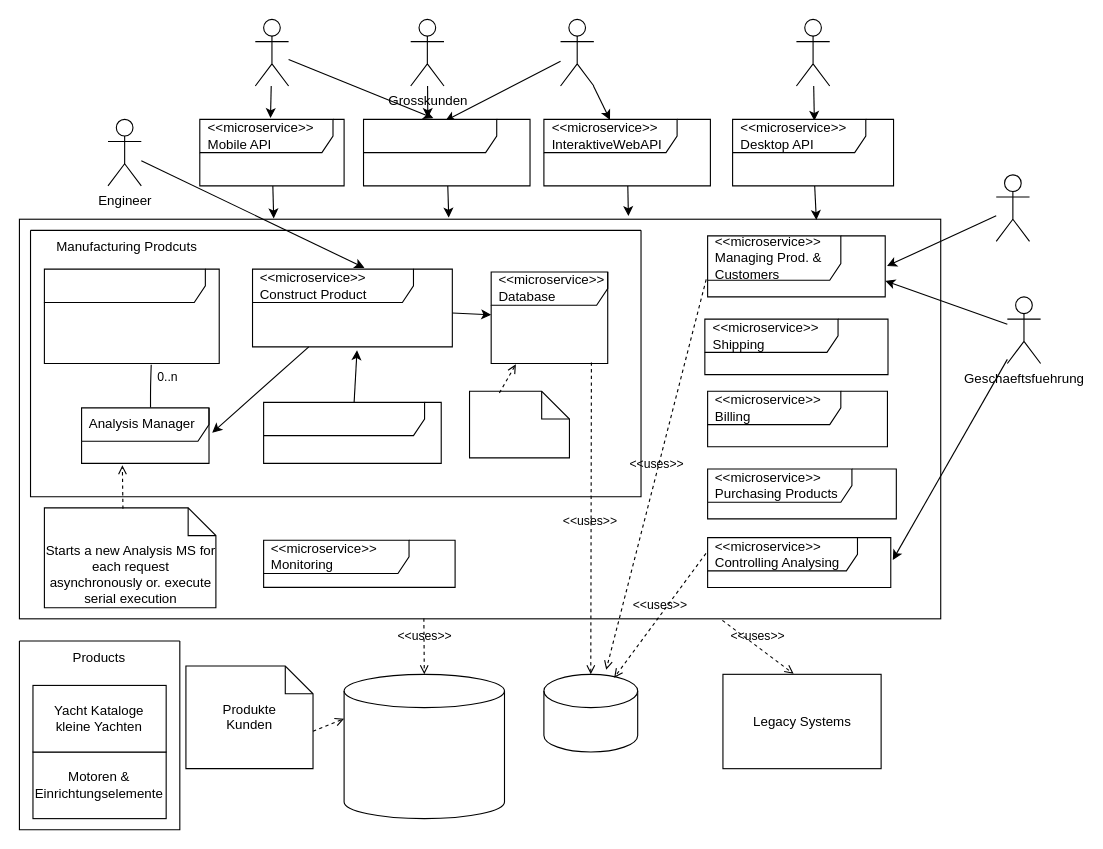
The diagram is 1103 pixels wide and 849 high, and some of its shapes have lost their labels. The centre of each missing label's shape, as x and y in pixels:
<<microservice>> Analysis Component: [131,316]
<<microservice>> Browser API: [446,152]
<<microservice>> Manufactoring-Chat: [352,432]
Data Analyst: [812,52]
Datenbank: [423,746]
Encapsulates data access: [518,424]
Kleinkunden: [271,52]
Konstrspez. Daten: [590,712]
Premiumkunden: [576,52]
Vertriebsmitarbeiter: [1012,207]
